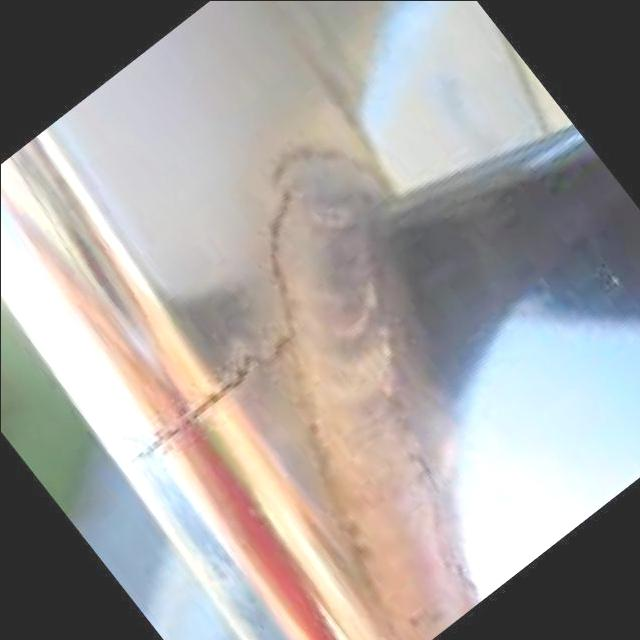defect: (121, 135, 402, 469)
